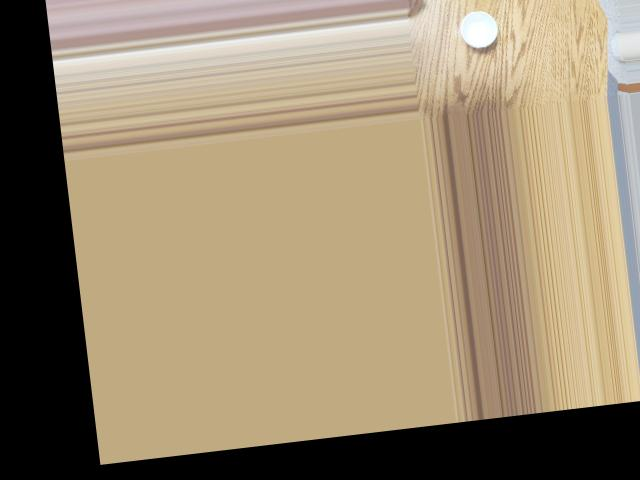cotage: (453, 6, 503, 49)
